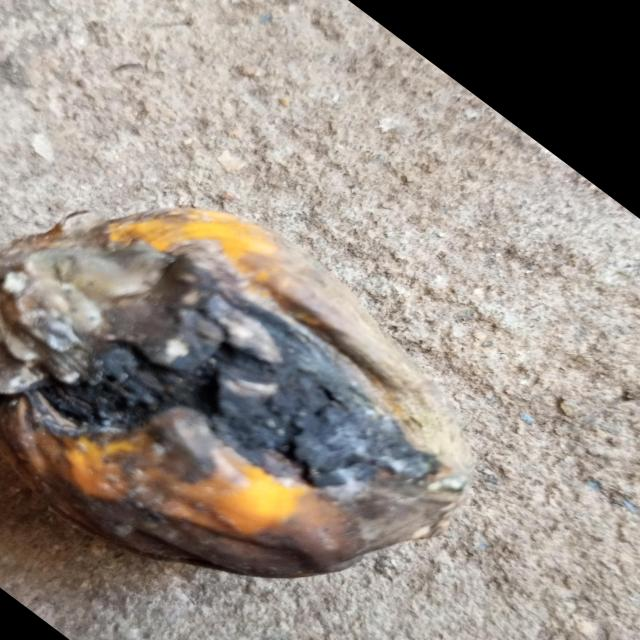damaged: (0, 208, 472, 578)
